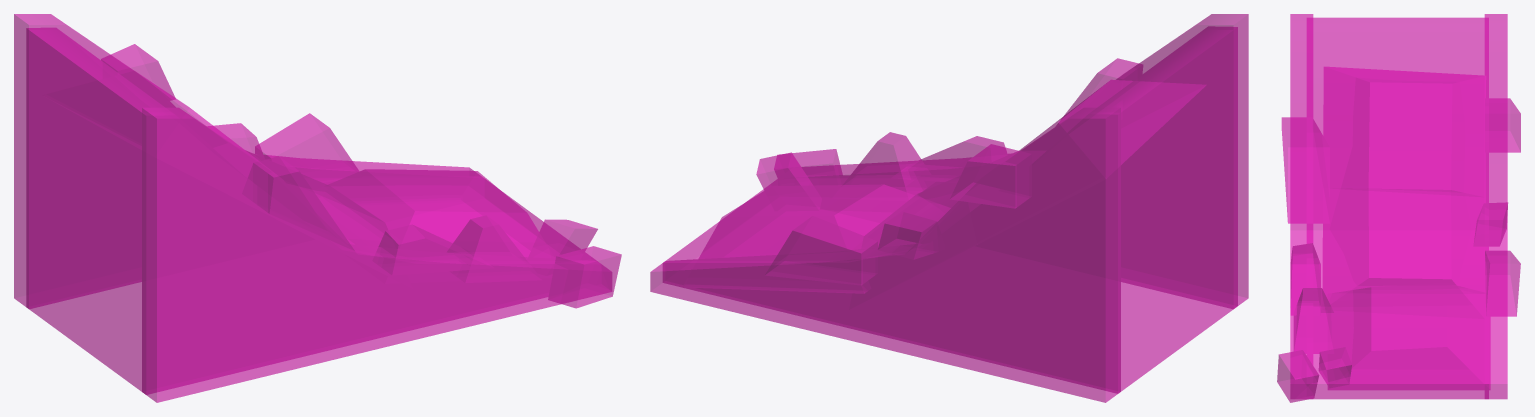
Rendered from SM_Bld_Wall_L_Damaged_Double_03_Collision.fbx.
The picture shows the model from 3 angles, left to right: view 1: azimuth 30°, elevation 25°; view 2: azimuth 150°, elevation 25°; view 3: azimuth 270°, elevation 25°; orthographic projection. The views are drawn at different scales.
Parts seen in each view (by area): view 1: SM_Bld_Wall_L_Damaged_Double_03_Collision; view 2: SM_Bld_Wall_L_Damaged_Double_03_Collision; view 3: SM_Bld_Wall_L_Damaged_Double_03_Collision.
Boxes of the visible parts, <box> form: SM_Bld_Wall_L_Damaged_Double_03_Collision: <box>14,14,621,402</box>; SM_Bld_Wall_L_Damaged_Double_03_Collision: <box>650,14,1248,402</box>; SM_Bld_Wall_L_Damaged_Double_03_Collision: <box>1277,14,1520,402</box>.
Bounding box in the file's own units: 1047 × 618 × 621.
